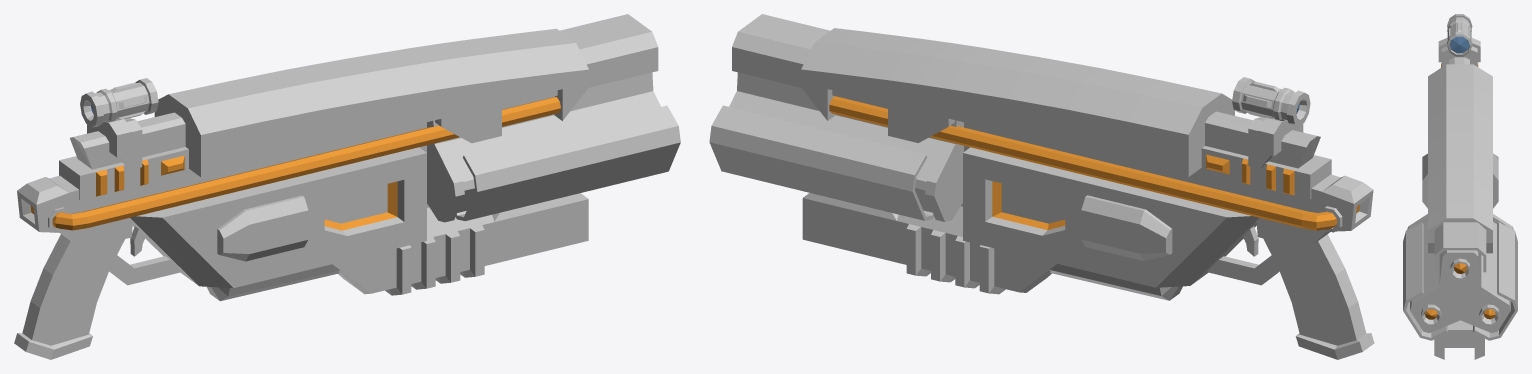
The model's file is SM_Sci_FiWeapon_MachineGun.fbx.
The picture shows the model from 3 angles, left to right: view 1: azimuth 30°, elevation 25°; view 2: azimuth 150°, elevation 25°; view 3: azimuth 270°, elevation 25°; orthographic projection. The views are drawn at different scales.
Visible parts, largest first — view 1: SM_Sci_FiWeapon_MachineGun; view 2: SM_Sci_FiWeapon_MachineGun; view 3: SM_Sci_FiWeapon_MachineGun.
Boxes of the visible parts, bbox=[...] form: SM_Sci_FiWeapon_MachineGun: bbox=[14, 14, 680, 359]; SM_Sci_FiWeapon_MachineGun: bbox=[709, 14, 1374, 359]; SM_Sci_FiWeapon_MachineGun: bbox=[1403, 14, 1517, 359].
Size of the model in its own units: 108 by 43.4 by 24.3.
